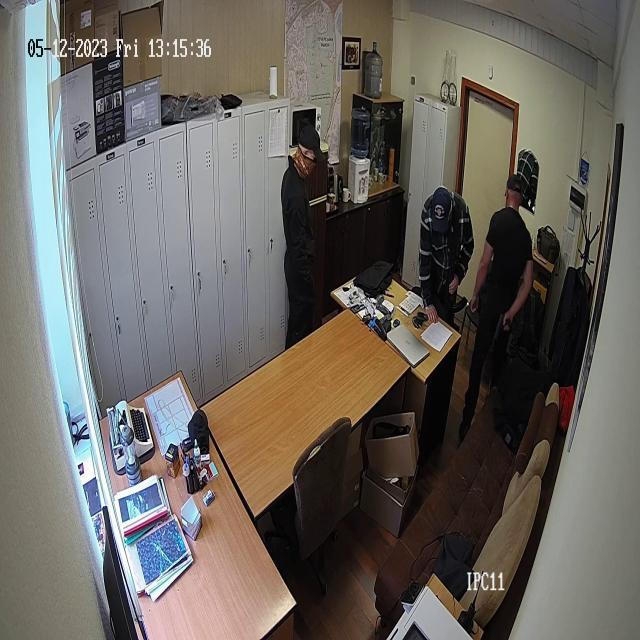pistol: (443, 248, 466, 328), (490, 308, 514, 348)
